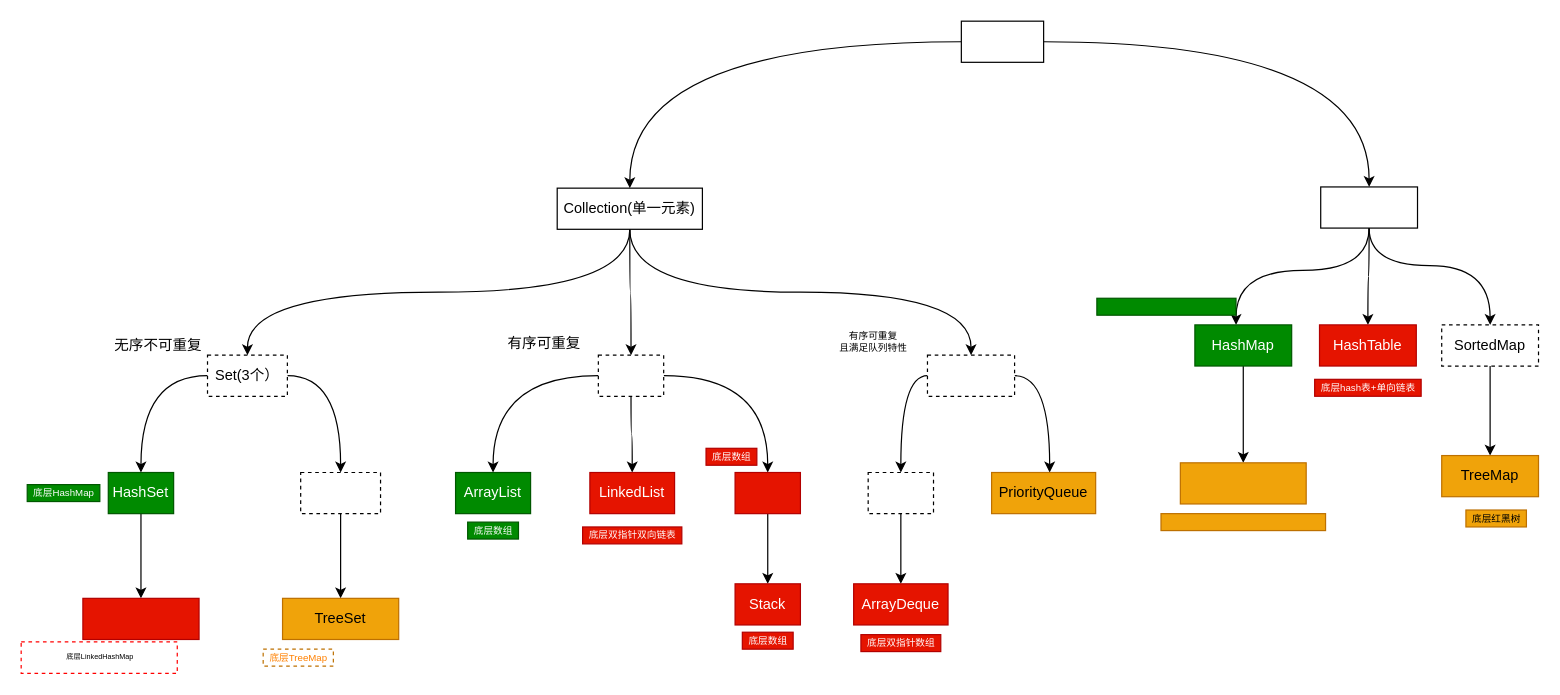
Some shapes in this 1560 by 695 pixel diagram are drawn without their labels. Here are the shapes that lost their labels. From the top down, the box of each, then its label:
(960, 20, 1044, 62): Java容器
(1320, 186, 1418, 228): Map(键值对)
(1096, 297, 1236, 315): 底层哈希表+单向链表+红黑树
(597, 354, 664, 396): List(4个)
(926, 354, 1015, 396): Queue(2个)
(299, 471, 381, 514): SortedSet
(734, 471, 800, 514): Vector
(867, 471, 934, 514): Deque
(1179, 462, 1306, 504): LinkedHashMap
(1160, 512, 1326, 531): 底层哈希表+链表+红黑树+双向链表
(82, 597, 199, 639): LinkedHashSet
